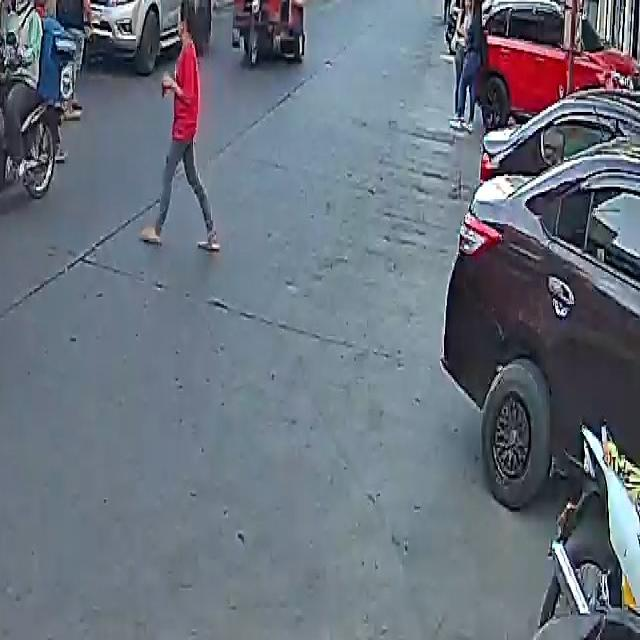car: (443, 70, 640, 532), (464, 0, 639, 128), (76, 0, 207, 73)
